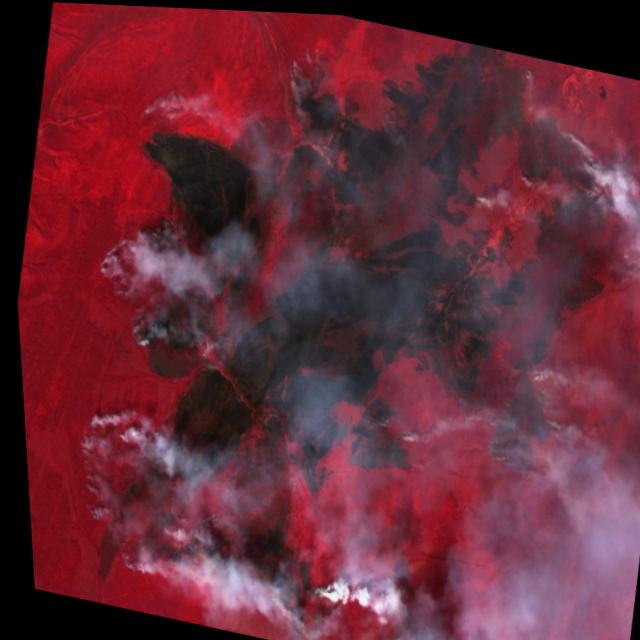fire: (18, 1, 640, 640)
